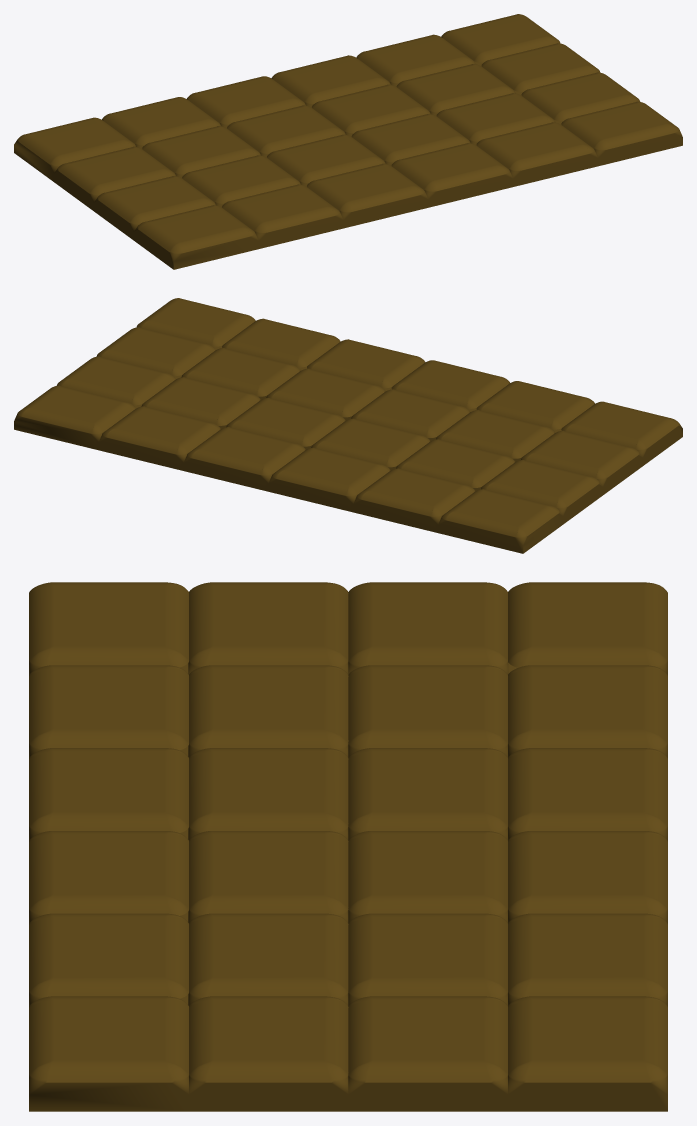
File: Chocolate.glb
3 views of the same model, one above another, from view 1: azimuth 30°, elevation 25°; view 2: azimuth 150°, elevation 25°; view 3: azimuth 270°, elevation 25° (orthographic). The views are drawn at different scales.
Parts seen in each view (by area): view 1: pCube25; view 2: pCube25; view 3: pCube25.
Boxes of the visible parts, box(x1,y1,x2,y2) form: pCube25: box(14, 14, 682, 269); pCube25: box(14, 298, 682, 553); pCube25: box(29, 582, 667, 1111).
Size of the model in its own units: 0.4373 by 0.0165 by 0.2377.
